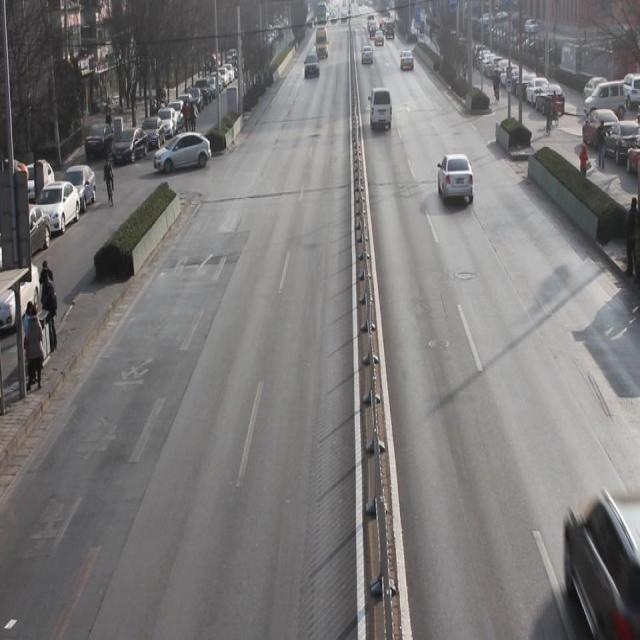car: (436, 152, 475, 206), (304, 52, 320, 81), (360, 42, 375, 68), (400, 48, 415, 73)
truck: (369, 87, 391, 142)
